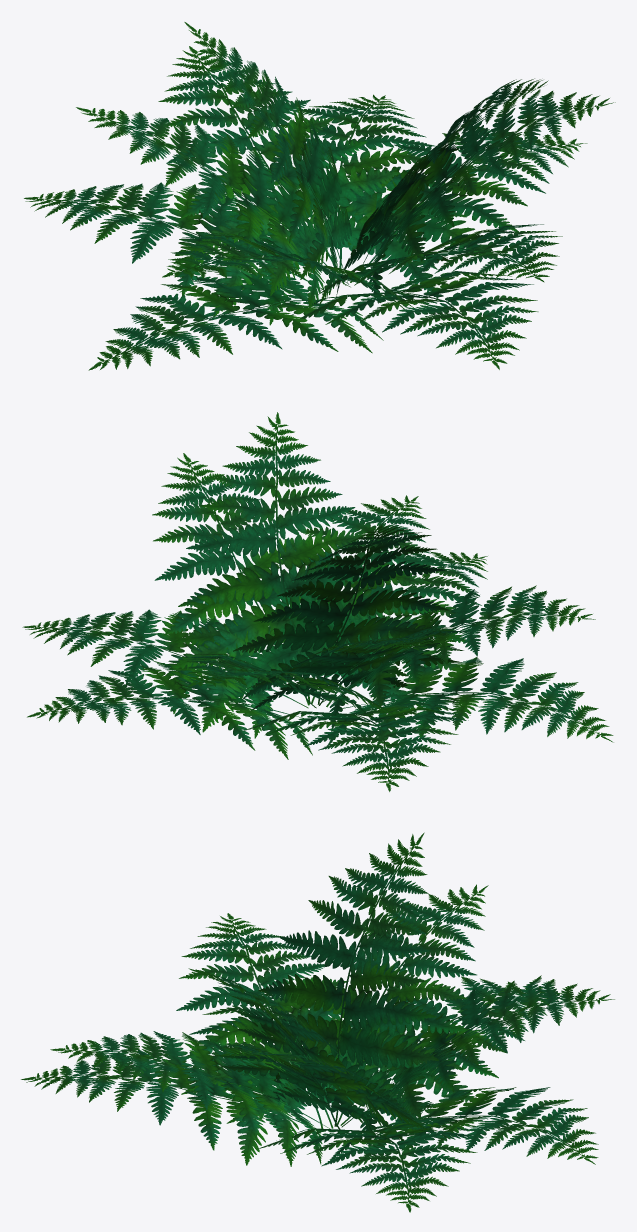
Rendered from bush0.obj.
3 views of the same model, one above another, from view 1: azimuth 30°, elevation 25°; view 2: azimuth 150°, elevation 25°; view 3: azimuth 270°, elevation 25° (orthographic). The views are drawn at different scales.
Parts seen in each view (by area): view 1: SM_Fern_01_Plane.1304; view 2: SM_Fern_01_Plane.1304; view 3: SM_Fern_01_Plane.1304.
Boxes of the visible parts, <box> form: SM_Fern_01_Plane.1304: <box>24,22,615,370</box>; SM_Fern_01_Plane.1304: <box>22,412,613,791</box>; SM_Fern_01_Plane.1304: <box>21,832,614,1212</box>.
Size of the model in its own units: 2.58 by 1.18 by 2.49.
Materials: 1 (1 with a texture image).
